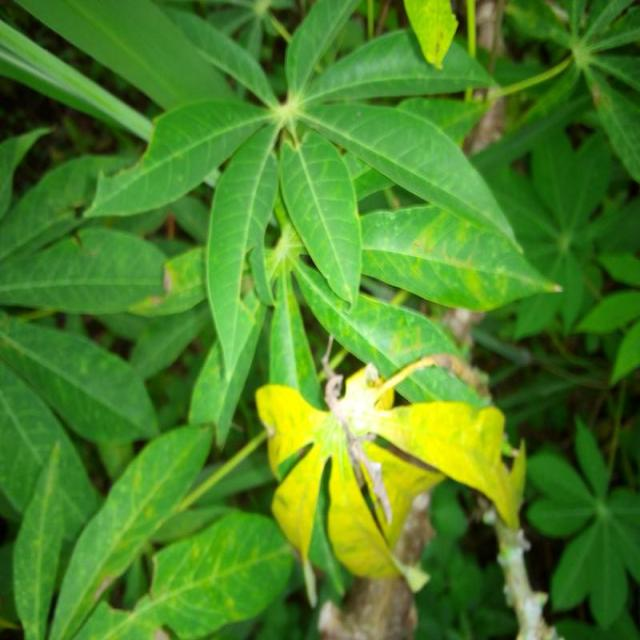cassava leaf: (81, 0, 560, 442), (254, 357, 519, 593)
